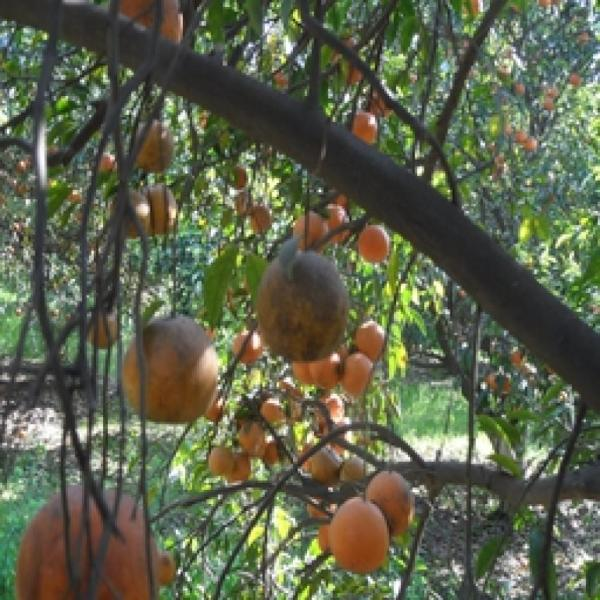Canker: (16, 480, 162, 597), (120, 312, 222, 425), (252, 252, 349, 359), (362, 464, 422, 532), (126, 117, 178, 175), (108, 183, 152, 244), (143, 180, 182, 234)
Sana: (106, 0, 183, 73), (328, 496, 397, 573), (353, 316, 391, 366), (292, 209, 332, 254), (308, 348, 341, 396), (320, 203, 353, 251), (357, 224, 394, 264), (341, 352, 375, 395), (349, 112, 380, 151), (232, 329, 266, 364), (202, 440, 232, 476), (248, 202, 277, 238), (286, 355, 313, 393), (222, 451, 253, 481)
